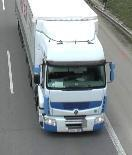Truck: (15, 0, 115, 135)
